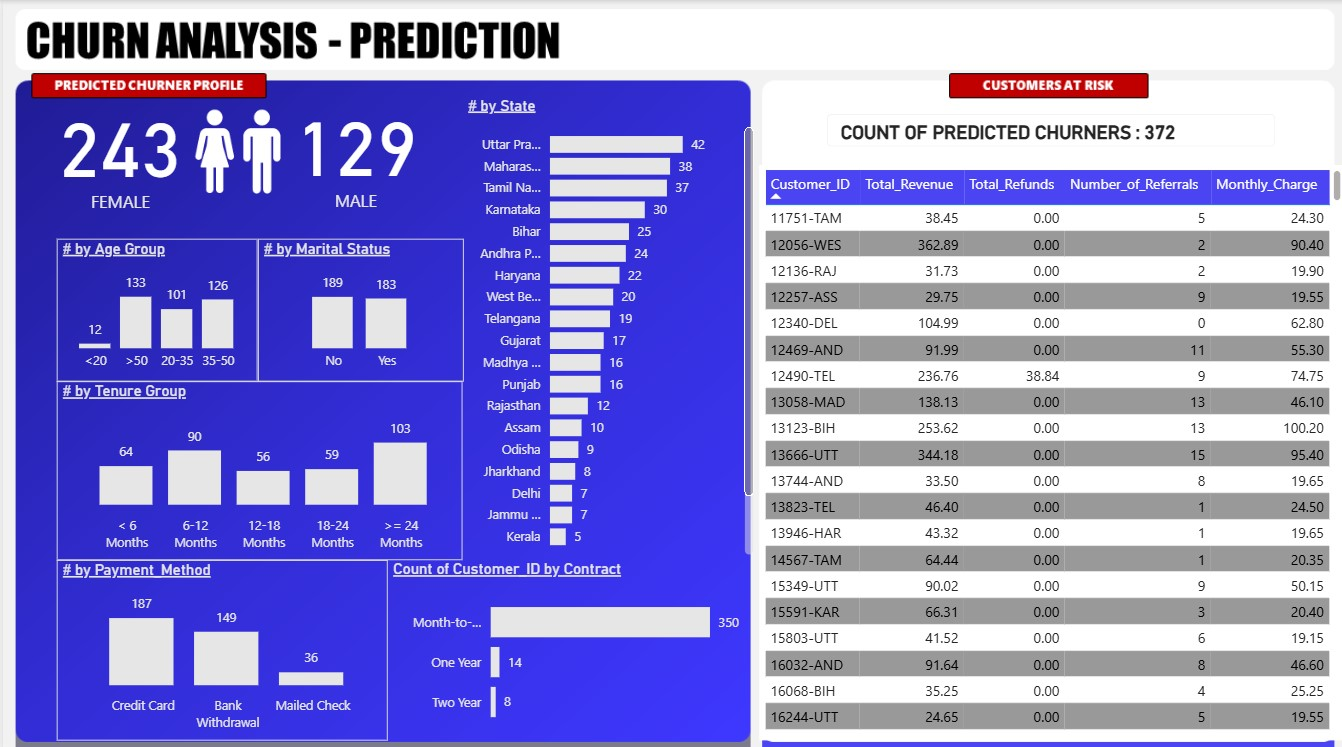

Layout of this report page (visuals, bound fields, positions):
{"tool":"powerbi","page":{"name":"Page 1","canvas":[1280,720],"ordinal":2},"visuals":[{"type":"tableEx","fields":{"Values":["Predictions.Customer_ID","Predictions.Total_Revenue","Predictions.Total_Refunds","Predictions.Number_of_Referrals","Predictions.Monthly_Charge"]},"box":[720,156.7,560,548.3],"z":0},{"type":"cardVisual","fields":{"Data":["tbl_Measures.Title Predicted Churners"]},"box":[768.3,91.7,461.7,65],"z":1000},{"type":"clusteredColumnChart","fields":{"Category":["mapping_AgeGrp.Age Group"],"Y":["CountNonNull(Predictions.Customer_ID)"]},"box":[51.4,227.1,191.4,135.7],"z":2000},{"type":"clusteredColumnChart","fields":{"Category":["Predictions.Married"],"Y":["CountNonNull(Predictions.Customer_ID)"]},"box":[242.9,227.1,195.7,135.7],"z":3000},{"type":"clusteredColumnChart","fields":{"Category":["mapping_TenureGrp.Tenure Group"],"Y":["CountNonNull(Predictions.Customer_ID)"]},"box":[51.7,363.3,386.7,170],"z":4000},{"type":"clusteredColumnChart","fields":{"Y":["CountNonNull(Predictions.Customer_ID)"],"Category":["Predictions.Payment_Method"]},"box":[51.7,533.3,315,171.7],"z":5000},{"type":"clusteredBarChart","fields":{"Category":["Predictions.Contract"],"Y":["CountNonNull(Predictions.Customer_ID)"]},"box":[366.7,533.3,341.7,171.7],"z":6000},{"type":"clusteredBarChart","fields":{"Category":["Predictions.State"],"Y":["CountNonNull(Predictions.Customer_ID)"]},"box":[438.3,91.7,281.7,441.7],"z":7000},{"type":"card","fields":{"Values":["tbl_Measures.Count Predicted Churner"]},"box":[10,73.3,205,140],"z":8000},{"type":"card","fields":{"Values":["tbl_Measures.Count Predicted Churner"]},"box":[232.9,72.9,205.7,140],"z":9000},{"type":"image","box":[146.9,92.3,154.6,101.5],"z":10000}]}

Visuals, with their boxes in screenshot pixels (x1, y1, x2, y2), scaled from the page's 1280x720 canvas onto the 1342x747 screenshot:
tableEx - Predictions.Customer_ID x Predictions.Total_Revenue: rect(755, 163, 1341, 731)
cardVisual - tbl_Measures.Title Predicted Churners: rect(806, 95, 1290, 163)
clusteredColumnChart - mapping_AgeGrp.Age Group x CountNonNull(Predictions.Customer_ID): rect(54, 236, 255, 376)
clusteredColumnChart - Predictions.Married x CountNonNull(Predictions.Customer_ID): rect(255, 236, 460, 376)
clusteredColumnChart - mapping_TenureGrp.Tenure Group x CountNonNull(Predictions.Customer_ID): rect(54, 377, 460, 553)
clusteredColumnChart - CountNonNull(Predictions.Customer_ID) x Predictions.Payment_Method: rect(54, 553, 384, 731)
clusteredBarChart - Predictions.Contract x CountNonNull(Predictions.Customer_ID): rect(384, 553, 743, 731)
clusteredBarChart - Predictions.State x CountNonNull(Predictions.Customer_ID): rect(460, 95, 755, 553)
card - tbl_Measures.Count Predicted Churner: rect(10, 76, 225, 221)
card - tbl_Measures.Count Predicted Churner: rect(244, 76, 460, 221)
image: rect(154, 96, 316, 201)
